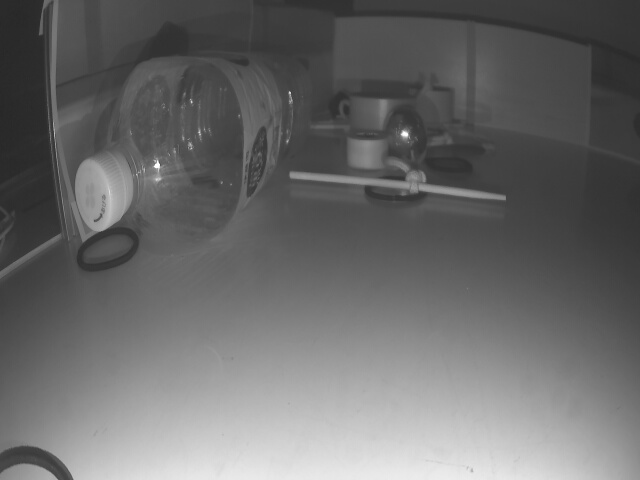Live: (386, 110, 423, 156)
